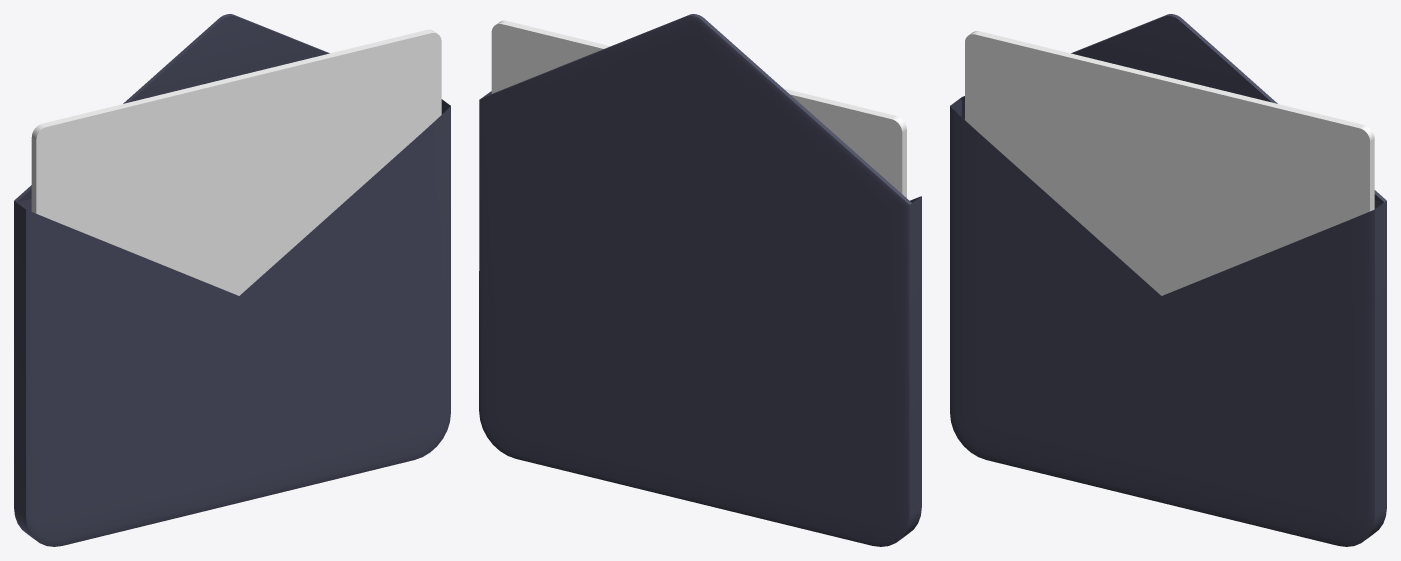
The model's file is mail.gltf.
3 views of the same model, side by side, from view 1: azimuth 30°, elevation 25°; view 2: azimuth 150°, elevation 25°; view 3: azimuth 330°, elevation 25° (orthographic).
Visible parts, largest first — view 1: Cube006, Extrude002; view 2: Cube006, Extrude002; view 3: Cube006, Extrude002.
Boxes of the visible parts, x1,y1,x2,y2 form: Cube006: (14,14,450,546); Extrude002: (31,29,441,295); Cube006: (479,14,921,546); Extrude002: (491,20,906,197); Cube006: (950,14,1386,546); Extrude002: (965,31,1374,295).
Size of the model in its own units: 2.37 by 2.55 by 0.1301.
